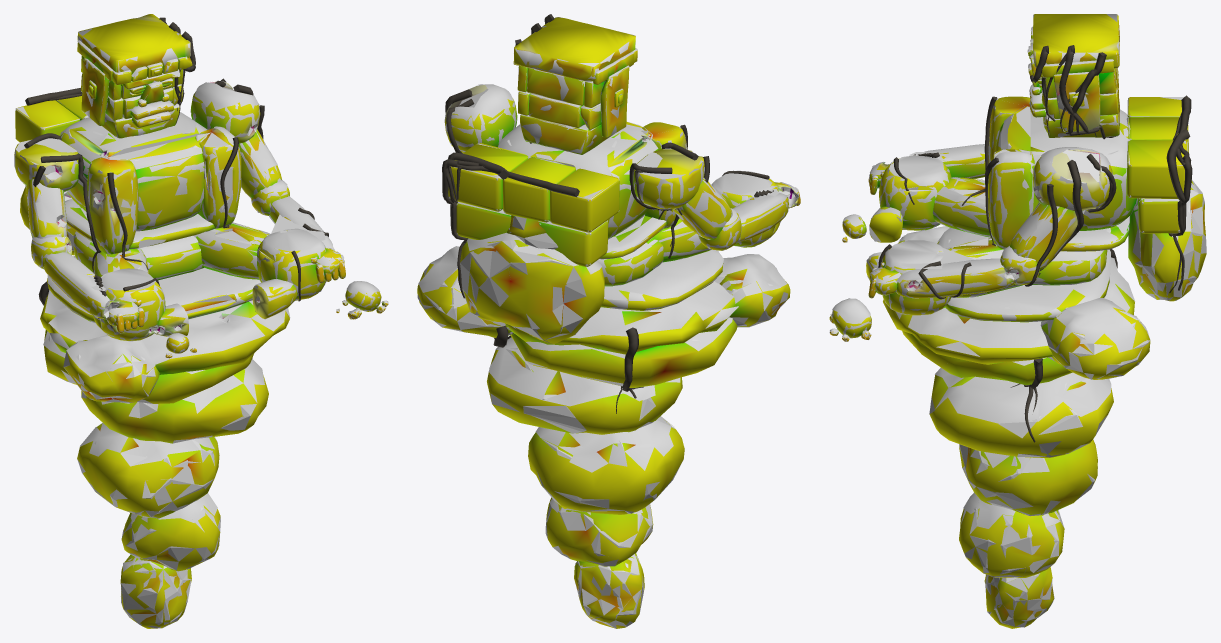
Rendered from face_colossus.glb.
3 views of the same model, side by side, from view 1: azimuth 30°, elevation 25°; view 2: azimuth 150°, elevation 25°; view 3: azimuth 270°, elevation 25° (orthographic). The views are drawn at different scales.
Parts seen in each view (by area): view 1: Colossus, Moss, Hull, Roots; view 2: Colossus, Moss, Hull, Roots; view 3: Colossus, Moss, Hull, Roots.
Boxes of the visible parts, bbox=[...] form: Colossus: bbox=[14, 14, 388, 628]; Moss: bbox=[15, 40, 388, 571]; Hull: bbox=[14, 28, 387, 628]; Roots: bbox=[24, 17, 328, 358]; Colossus: bbox=[417, 17, 800, 628]; Moss: bbox=[418, 48, 798, 574]; Hull: bbox=[417, 17, 800, 628]; Roots: bbox=[442, 14, 773, 413]; Colossus: bbox=[829, 14, 1206, 628]; Moss: bbox=[830, 26, 1202, 582]; Hull: bbox=[829, 14, 1206, 627]; Roots: bbox=[878, 45, 1192, 442].
Bounding box in the file's own units: 59.26 × 120 × 68.11.
